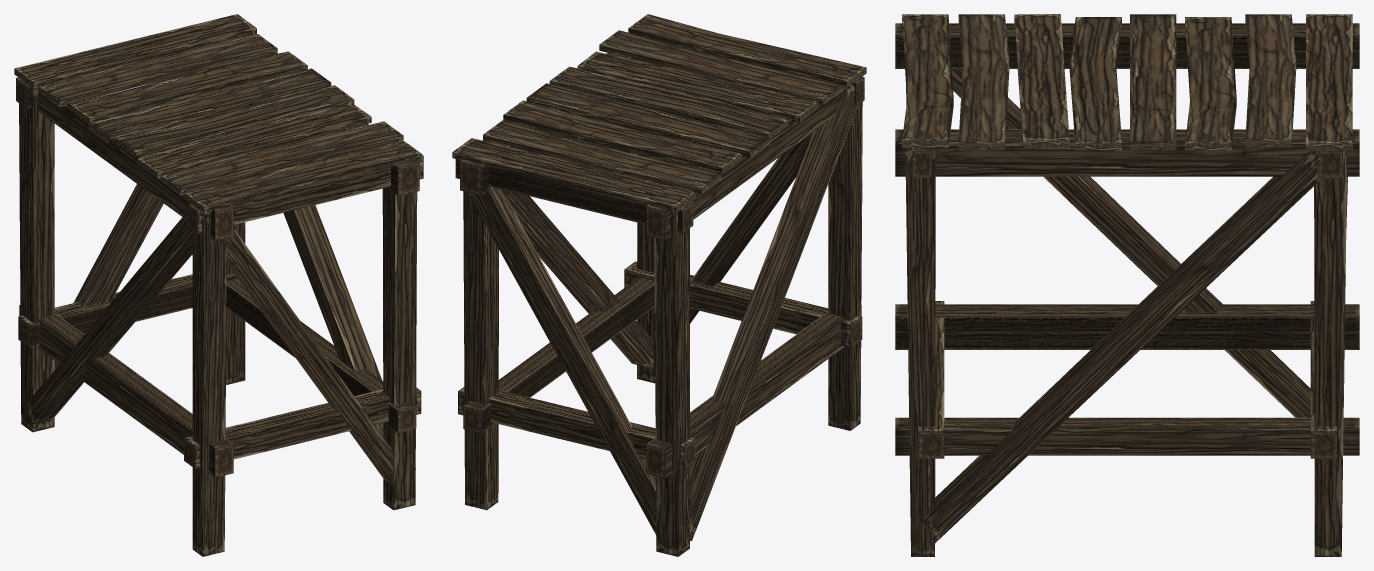
The model's file is Wood_4X6X6_01.fbx.
3 renders of one model, left to right at view 1: azimuth 30°, elevation 25°; view 2: azimuth 150°, elevation 25°; view 3: azimuth 270°, elevation 25°, orthographic. The views are drawn at different scales.
Parts seen in each view (by area): view 1: Wood_4X6X6_01; view 2: Wood_4X6X6_01; view 3: Wood_4X6X6_01.
Part boxes in pixels (x1=…): Wood_4X6X6_01: x1=14, y1=14, x2=423, y2=556; Wood_4X6X6_01: x1=452, y1=14, x2=866, y2=556; Wood_4X6X6_01: x1=895, y1=14, x2=1359, y2=556.
Size of the model in its own units: 4 by 5.97 by 6.
